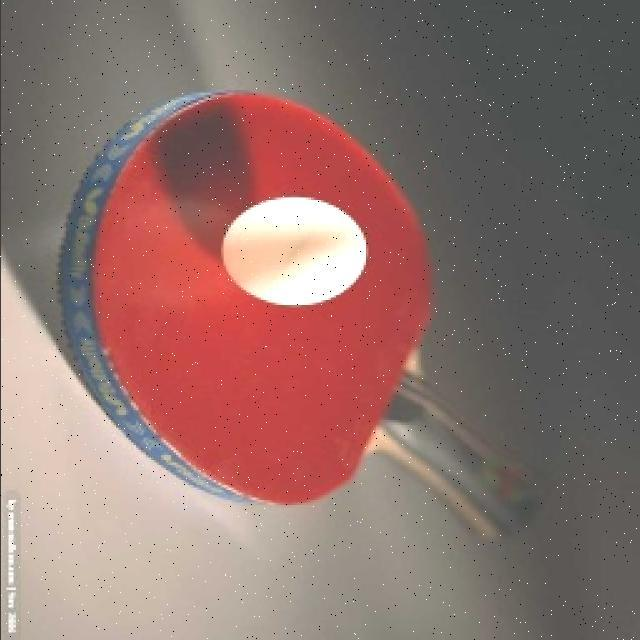ping-pong-ball: (218, 196, 368, 306)
